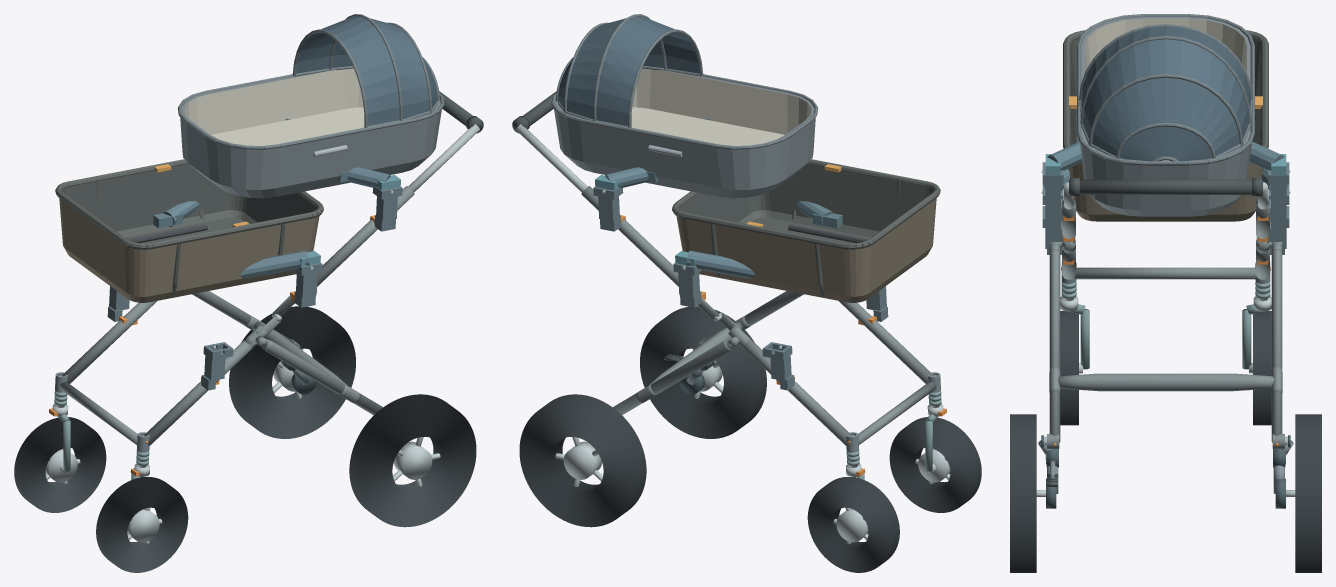
File: D15_w550_state1_wheel_L.glb
The picture shows the model from 3 angles, left to right: view 1: azimuth 30°, elevation 25°; view 2: azimuth 150°, elevation 25°; view 3: azimuth 270°, elevation 25°; orthographic projection. The views are drawn at different scales.
Parts seen in each view (by area): view 1: D15_Upper, D15_Lower, RL_tire.002, RR_tire.002, FL_tire.002, FR_tire.002, D15_Lower_Mount_M, V46_rear_leg_-1.003, main_lower_-1.003, main_lower_1.003, main_upper_-1.003, RL_sealed_hub.002 (+10 smaller); view 2: D15_Upper, D15_Lower, RR_tire.002, RL_tire.002, FR_tire.002, FL_tire.002, D15_Lower_Mount_M, V46_rear_leg_1.003, main_lower_1.003, main_lower_-1.003, main_upper_1.003, RR_sealed_hub.002 (+10 smaller); view 3: D15_Upper, D15_Lower, RL_tire.002, RR_tire.002, V46_rearbar.003, round_handle.002, front_fixed_round_tube.002, V46_rear_leg_1.003, V46_rear_leg_-1.003, FL_tire.002, FR_tire.002, D15_Upper_Mount_H (+8 smaller).
Boxes of the visible parts, <box> form: D15_Upper: <box>177,14,444,198</box>; D15_Lower: <box>55,159,323,302</box>; RL_tire.002: <box>349,394,476,527</box>; RR_tire.002: <box>229,306,355,438</box>; FL_tire.002: <box>96,477,188,572</box>; FR_tire.002: <box>14,417,106,512</box>; D15_Lower_Mount_M: <box>153,201,320,278</box>; V46_rear_leg_-1.003: <box>264,340,382,415</box>; main_lower_-1.003: <box>144,340,255,446</box>; main_lower_1.003: <box>62,301,156,383</box>; main_upper_-1.003: <box>317,186,414,286</box>; RL_sealed_hub.002: <box>393,441,432,479</box>; D15_Upper: <box>551,14,818,198</box>; D15_Lower: <box>672,159,940,302</box>; RR_tire.002: <box>519,394,646,527</box>; RL_tire.002: <box>640,306,766,438</box>; FR_tire.002: <box>807,477,899,572</box>; FL_tire.002: <box>889,417,981,512</box>; D15_Lower_Mount_M: <box>675,201,842,278</box>; V46_rear_leg_1.003: <box>613,340,731,415</box>; main_lower_1.003: <box>740,340,851,446</box>; main_lower_-1.003: <box>839,301,933,383</box>; main_upper_1.003: <box>581,186,678,286</box>; RR_sealed_hub.002: <box>563,441,602,479</box>; D15_Upper: <box>1077,14,1254,216</box>; D15_Lower: <box>1063,30,1268,221</box>; RL_tire.002: <box>1010,414,1036,572</box>; RR_tire.002: <box>1295,414,1321,572</box>; V46_rearbar.003: <box>1058,373,1273,391</box>; round_handle.002: <box>1069,179,1262,194</box>; front_fixed_round_tube.002: <box>1074,267,1257,279</box>; V46_rear_leg_1.003: <box>1271,249,1282,442</box>; V46_rear_leg_-1.003: <box>1049,249,1060,442</box>; FL_tire.002: <box>1060,311,1078,425</box>; FR_tire.002: <box>1253,311,1271,425</box>; D15_Upper_Mount_H: <box>1041,141,1290,174</box>.
Size of the model in its own units: 1.19 by 1.35 by 0.7071.
